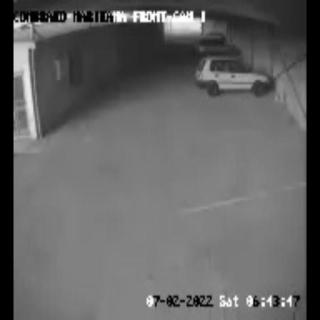car: (194, 56, 272, 95)
